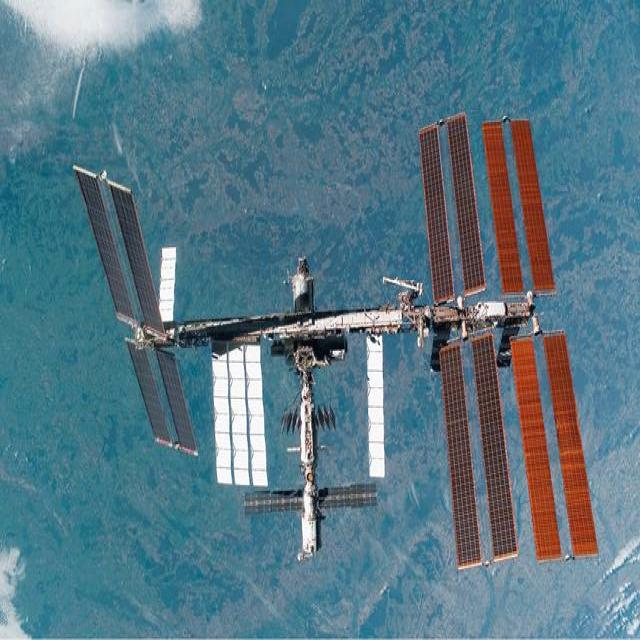satellite: (80, 113, 562, 568), (544, 331, 598, 556)
